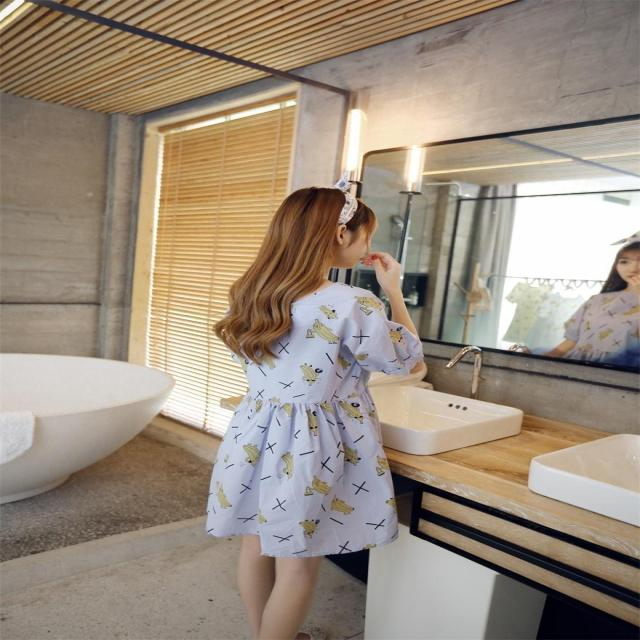short sleeve dress: (208, 276, 424, 557)
